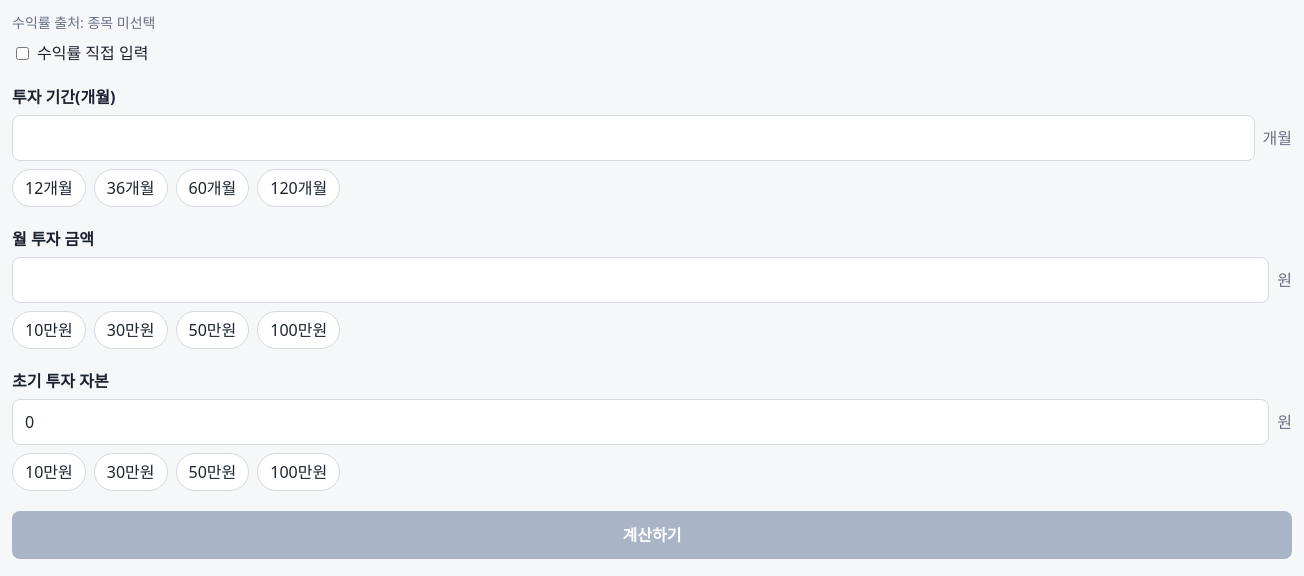
Test case: InputForm › 프리셋 칩이 필드를 채운다
Click the button "36개월". click: {"x": 131, "y": 188}
box: [94,169,168,207]
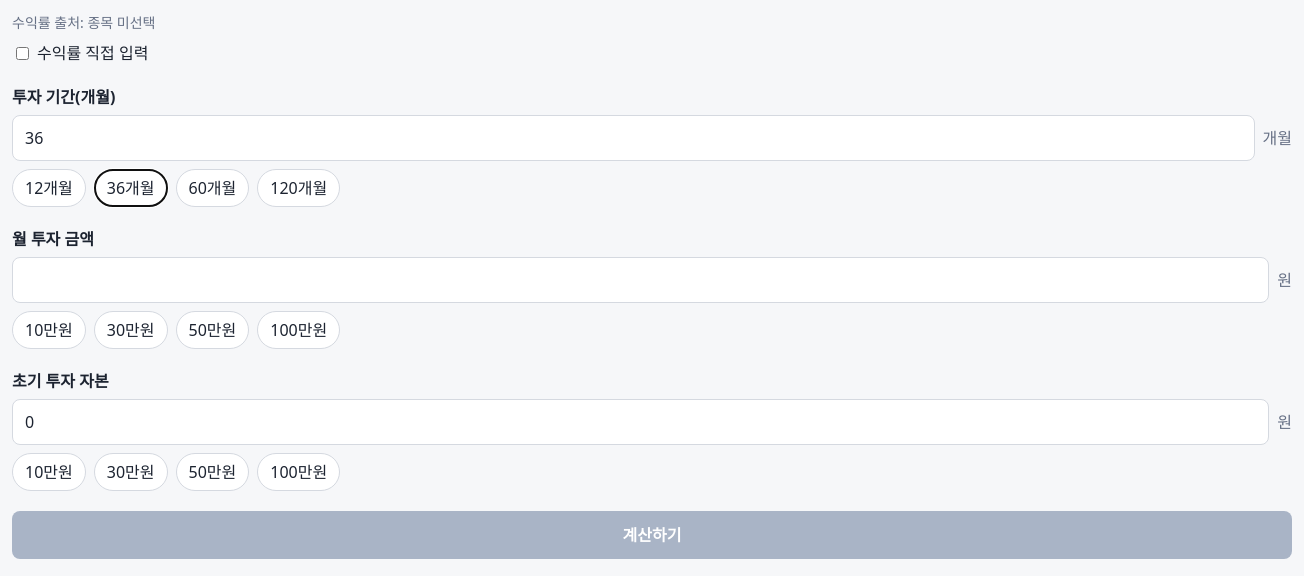
Now the field labelled "투자 기간(개월)" holds "36", box [12,115,1254,161]
Click the button "30만원" below "월 투자 금액". click: {"x": 131, "y": 330}
box: [94,311,168,349]
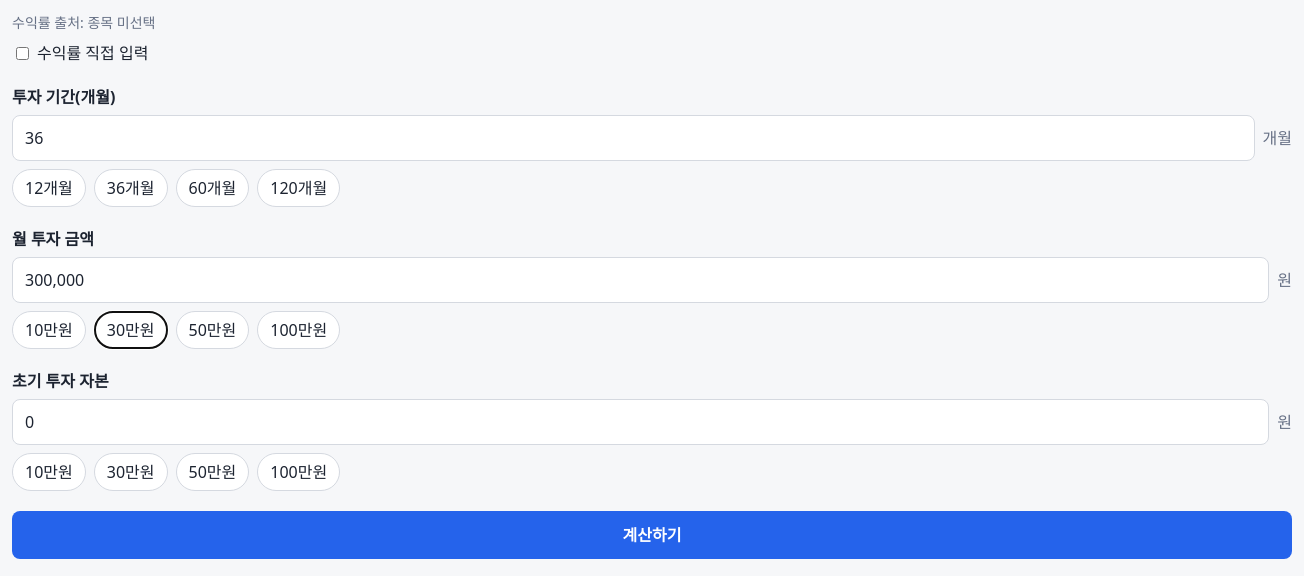
Now the field labelled "월 투자 금액" holds "300,000", box [12,257,1269,303]
Click the button "100만원" below "초기 투자 자본". click: {"x": 299, "y": 472}
box: [257,453,340,491]
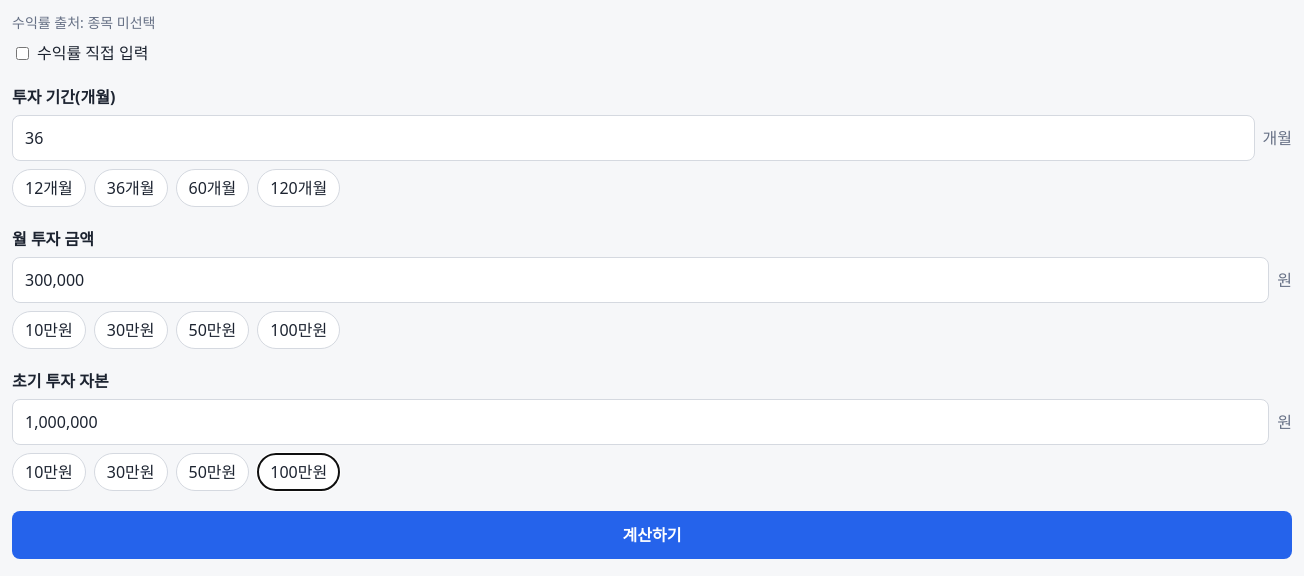
Now the field labelled "초기 투자 자본" holds "1,000,000", box [12,399,1269,445]
